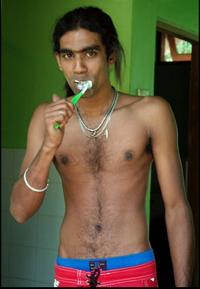person: (11, 5, 195, 288)
